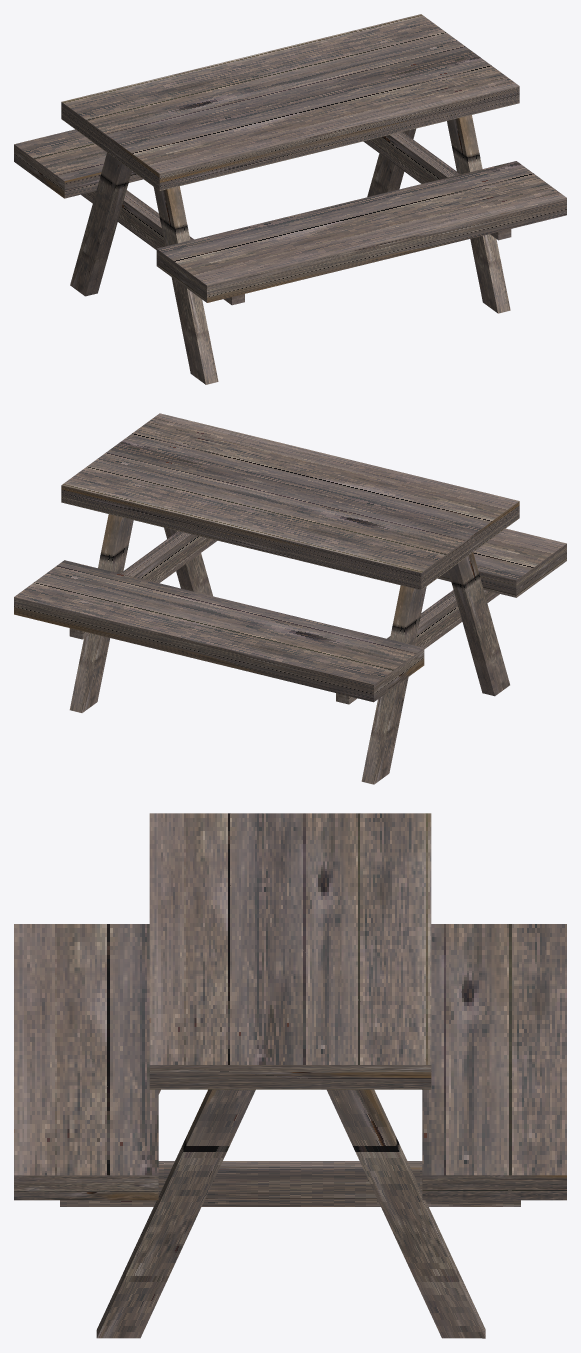
Rendered from picnic_table.gltf.
3 renders of one model, top to bottom at view 1: azimuth 30°, elevation 25°; view 2: azimuth 150°, elevation 25°; view 3: azimuth 270°, elevation 25°, orthographic. The views are drawn at different scales.
Parts seen in each view (by area): view 1: Table-col, Seat1-col, Seat2-col, LegD, LegB, LegA, CrossPlankA, CrossPlankB, LegC; view 2: Table-col, Seat2-col, Seat1-col, LegB, LegD, LegC, CrossPlankA, CrossPlankB, LegA; view 3: Table-col, Seat1-col, Seat2-col, LegA, LegC, CrossPlankA.
Part boxes in pixels (box(x1,y1,x2,y2)): Table-col: box(61, 14, 519, 190); Seat1-col: box(156, 161, 566, 302); Seat2-col: box(14, 129, 143, 198); LegD: box(70, 153, 131, 296); LegB: box(153, 186, 218, 384); LegA: box(447, 115, 510, 313); CrossPlankA: box(363, 132, 511, 240); CrossPlankB: box(81, 190, 244, 305); LegC: box(367, 128, 415, 196); Table-col: box(61, 413, 519, 589); Seat2-col: box(14, 560, 424, 702); Seat1-col: box(437, 528, 566, 597); LegB: box(448, 552, 509, 696); LegD: box(361, 585, 426, 784); LegC: box(69, 514, 133, 712); CrossPlankA: box(69, 531, 217, 639); CrossPlankB: box(336, 590, 499, 704); LegA: box(164, 527, 212, 596); Table-col: box(149, 813, 431, 1089); Seat1-col: box(14, 924, 158, 1200); Seat2-col: box(422, 924, 566, 1200); LegA: box(96, 1089, 255, 1338); LegC: box(327, 1089, 485, 1338); CrossPlankA: box(60, 1161, 520, 1206).
Bounding box in the file's own units: 5.93 × 3.22 × 5.51.
Materials: 1 (1 with a texture image).
